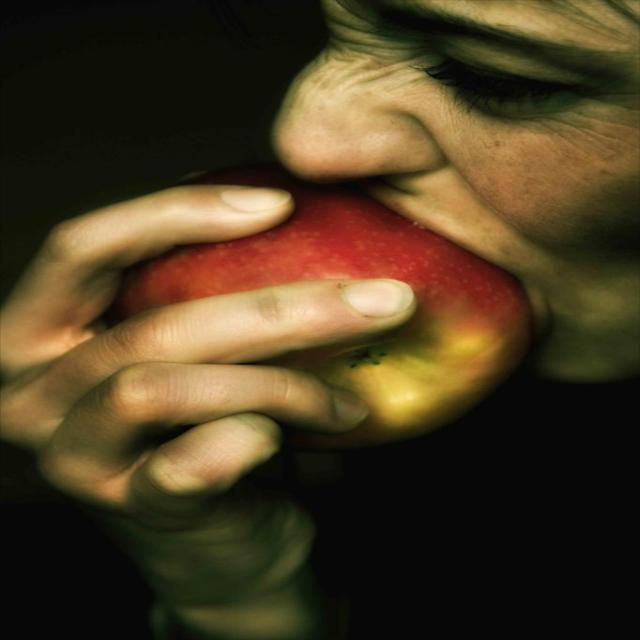Healty Apple: (161, 180, 523, 399)
